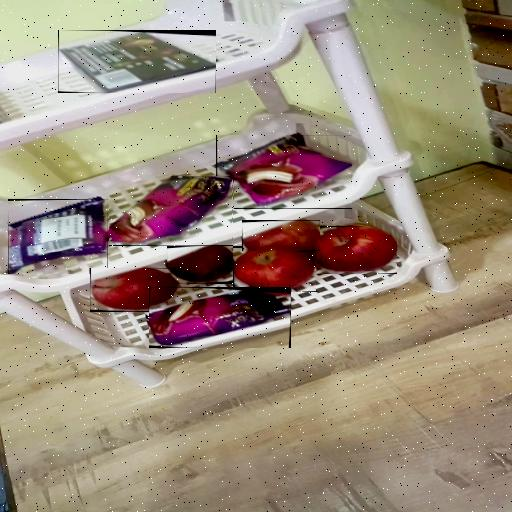Apple: (310, 226, 397, 274), (233, 246, 316, 292), (90, 268, 176, 312), (167, 246, 236, 284), (242, 220, 320, 251)
Choco Fills: (58, 30, 216, 93)
Choco Pie: (216, 135, 352, 209), (110, 176, 234, 246), (149, 287, 291, 348), (8, 199, 108, 274)
